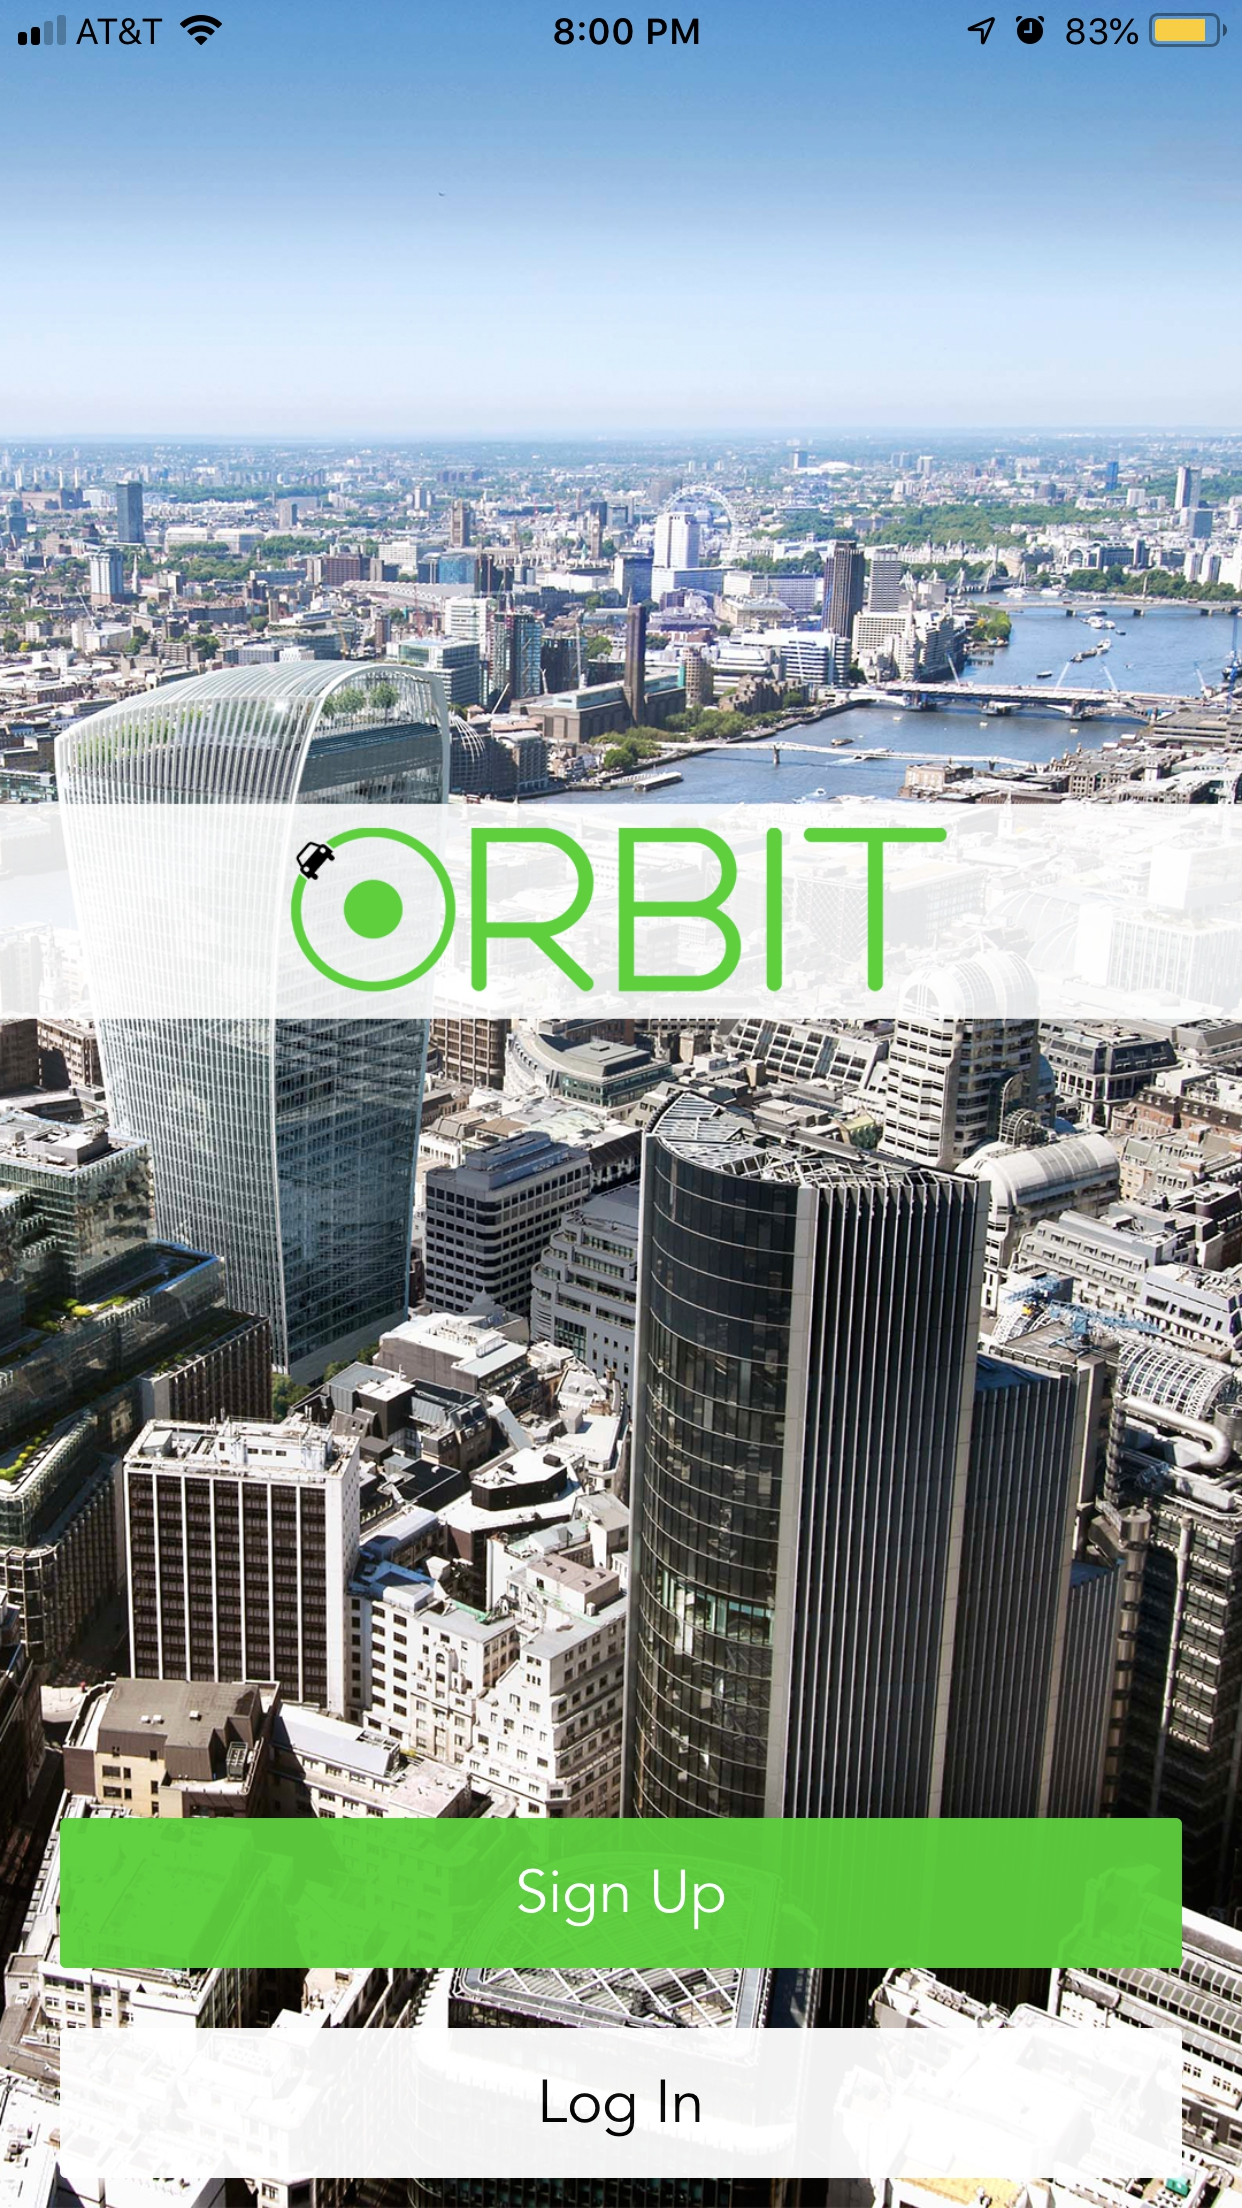BackgroundImage: (2, 49, 1242, 2208)
Image: (290, 826, 948, 993)
TextButton: (61, 1818, 1181, 1968), (61, 2028, 1181, 2178)
UpperTaskBar: (2, 2, 1242, 49)
